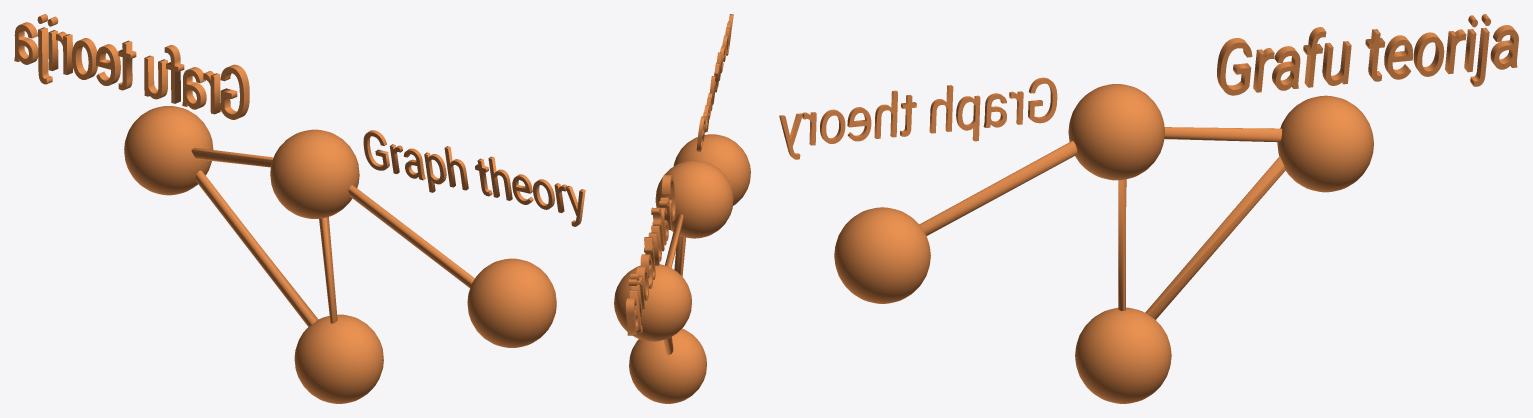
Rendered from graph11.gltf.
3 renders of one model, left to right at view 1: azimuth 30°, elevation 25°; view 2: azimuth 150°, elevation 25°; view 3: azimuth 270°, elevation 25°, orthographic. The views are drawn at different scales.
Parts seen in each view (by area): view 1: Text, Sphere, Sphere.003, Sphere.002, Sphere.001, Text.001, Cylinder.002, Cylinder, Cylinder.004, Cylinder.003; view 2: Sphere.003, Sphere.002, Sphere.001, Text, Sphere, Text.001, Cylinder.003, Cylinder.004, Cylinder.002; view 3: Text, Sphere, Sphere.003, Sphere.001, Sphere.002, Text.001, Cylinder.002, Cylinder, Cylinder.003, Cylinder.004.
Part boxes in pixels (x1=…): Text: x1=14, y1=14, x2=249, y2=119; Sphere: x1=467, y1=258, x2=556, y2=347; Sphere.003: x1=294, y1=314, x2=383, y2=403; Sphere.002: x1=270, y1=129, x2=359, y2=218; Sphere.001: x1=124, y1=106, x2=213, y2=195; Text.001: x1=363, y1=130, x2=585, y2=226; Cylinder.002: x1=196, y1=170, x2=318, y2=326; Cylinder: x1=348, y1=185, x2=474, y2=287; Cylinder.004: x1=319, y1=217, x2=337, y2=323; Cylinder.003: x1=191, y1=148, x2=273, y2=167; Sphere.003: x1=629, y1=328, x2=706, y2=403; Sphere.002: x1=655, y1=160, x2=733, y2=238; Sphere.001: x1=614, y1=264, x2=691, y2=341; Text: x1=626, y1=175, x2=675, y2=335; Sphere: x1=673, y1=134, x2=750, y2=205; Text.001: x1=696, y1=14, x2=733, y2=151; Cylinder.003: x1=665, y1=214, x2=683, y2=267; Cylinder.004: x1=674, y1=236, x2=686, y2=276; Cylinder.002: x1=664, y1=337, x2=673, y2=355; Text: x1=1217, y1=14, x2=1518, y2=95; Sphere: x1=834, y1=207, x2=930, y2=303; Sphere.003: x1=1075, y1=307, x2=1171, y2=403; Sphere.001: x1=1277, y1=95, x2=1373, y2=192; Sphere.002: x1=1068, y1=84, x2=1164, y2=180; Text.001: x1=779, y1=77, x2=1057, y2=159; Cylinder.002: x1=1145, y1=156, x2=1285, y2=319; Cylinder: x1=919, y1=140, x2=1077, y2=235; Cylinder.003: x1=1164, y1=127, x2=1282, y2=142; Cylinder.004: x1=1118, y1=179, x2=1126, y2=310.
Bounding box in the file's own units: 6.3 × 7.6 × 15.31.
